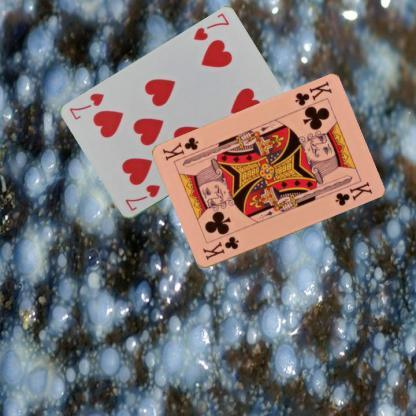7h: (191, 10, 231, 43), (123, 182, 161, 213)
Kc: (292, 79, 333, 108), (200, 233, 240, 262)
